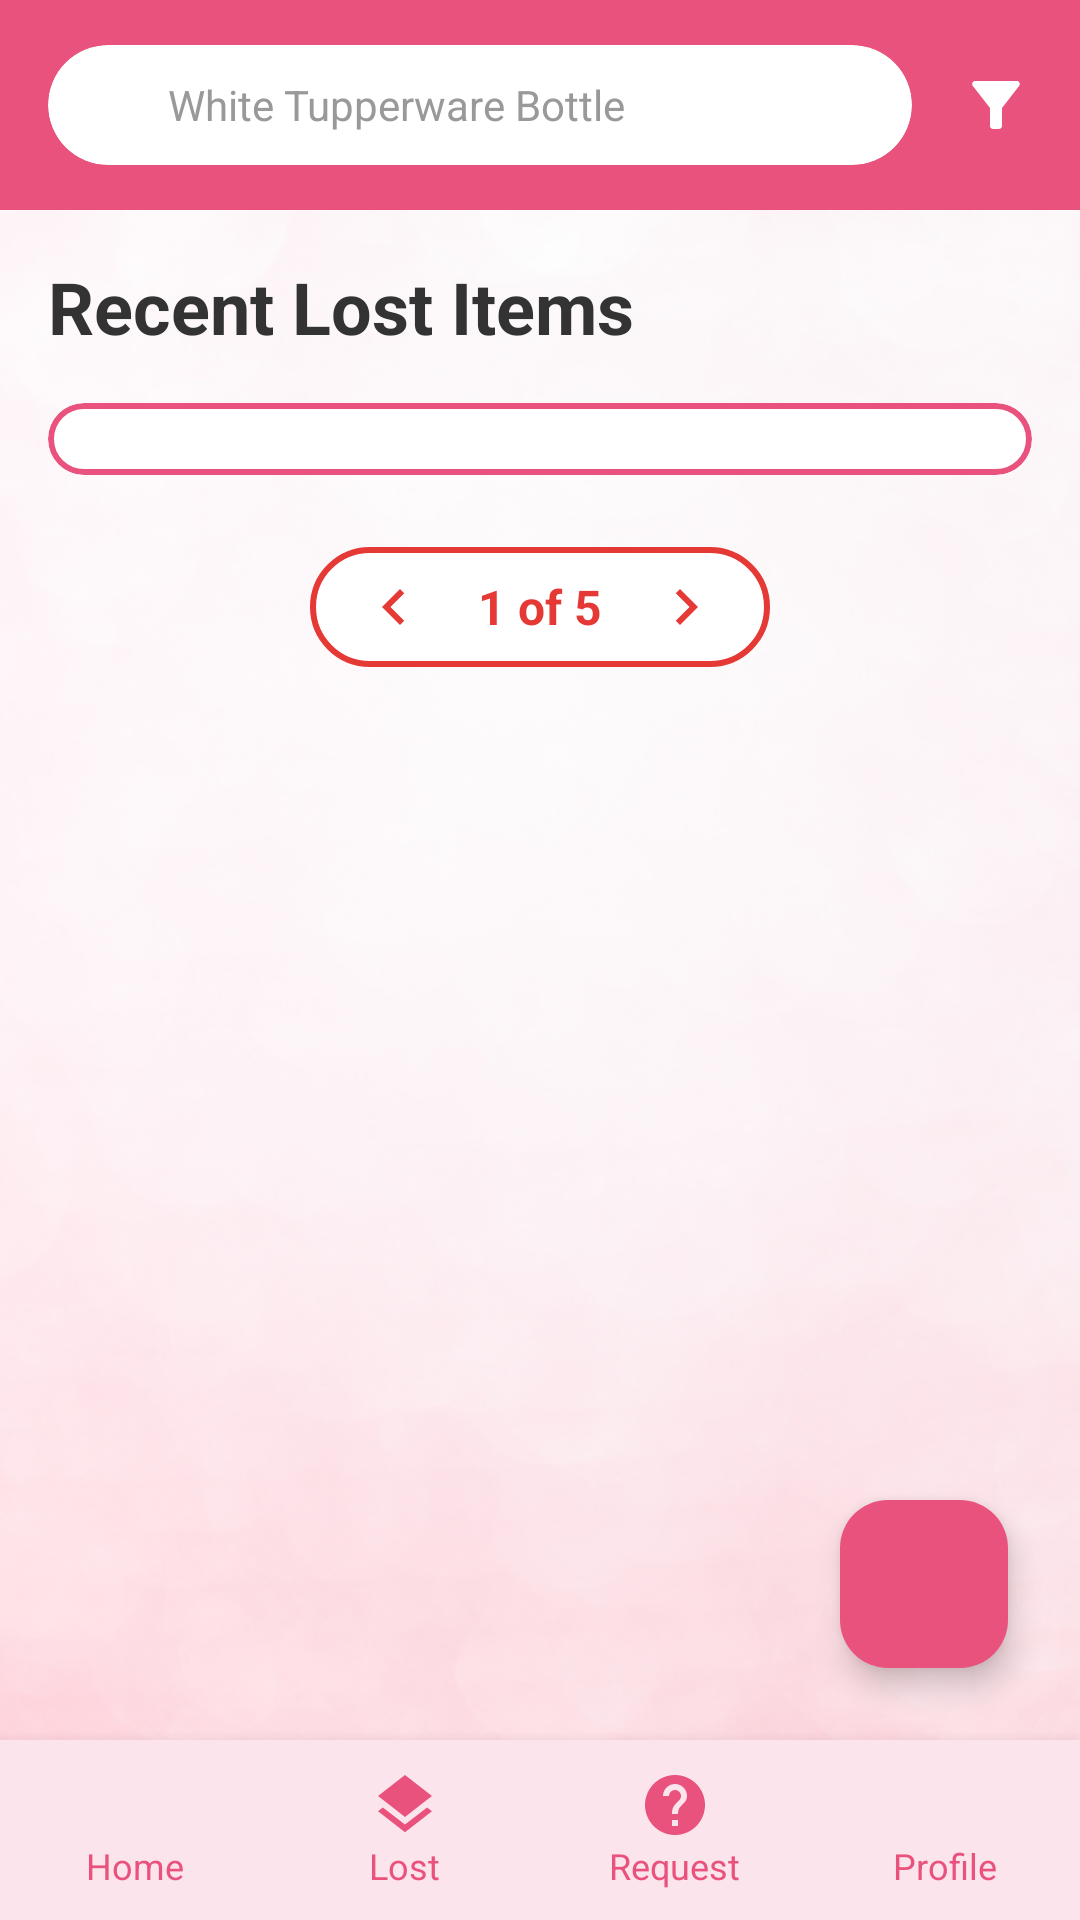

Locate icon controls on the screen. Image size 1080 × 1920, boxes as {"x1": x1, "y1": y1, "x2": x2, "y2": y2}.
arrow left: {"x1": 382, "y1": 589, "x2": 404, "y2": 625}
arrow right: {"x1": 676, "y1": 589, "x2": 698, "y2": 625}
filter: {"x1": 972, "y1": 81, "x2": 1020, "y2": 129}
help: {"x1": 645, "y1": 1775, "x2": 705, "y2": 1835}
layers: {"x1": 378, "y1": 1775, "x2": 432, "y2": 1832}
